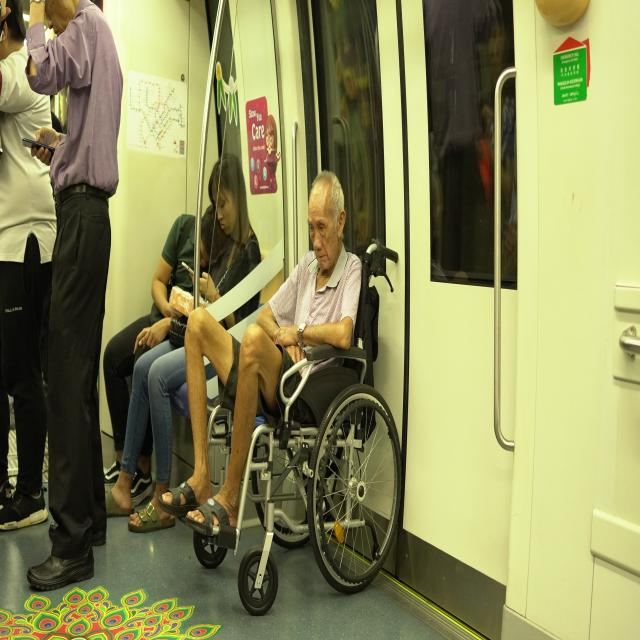wheelchairs: (194, 240, 404, 616)
